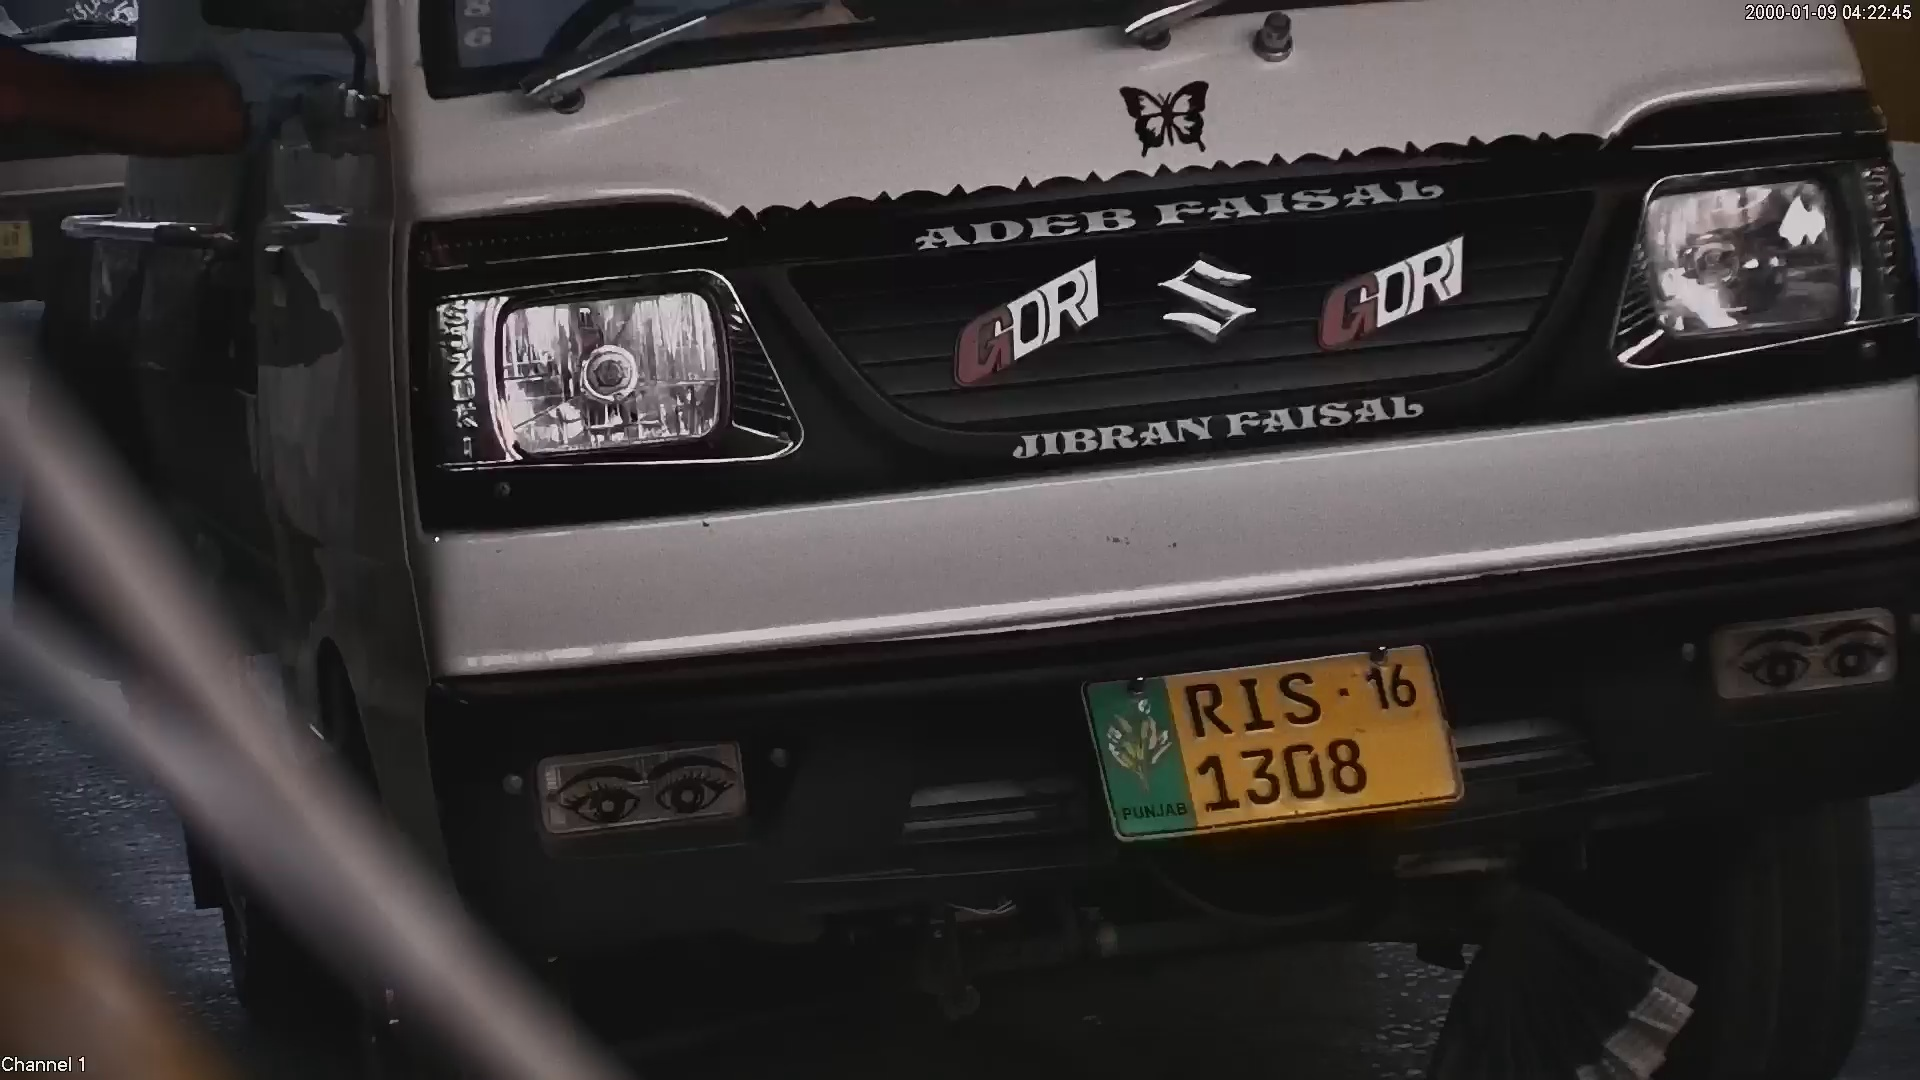Number_Plate: (1060, 644, 1484, 840)
Undefined: (880, 170, 1487, 466), (410, 242, 817, 477), (1600, 123, 1893, 379), (515, 731, 752, 831), (1697, 594, 1900, 699)
